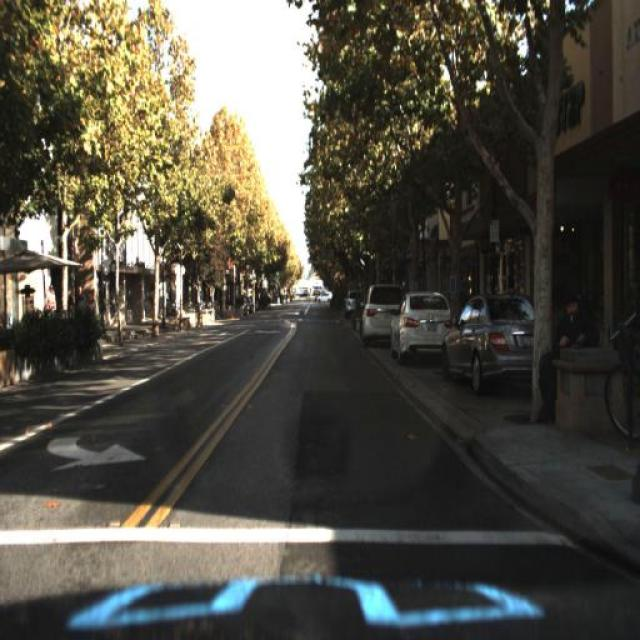car: (436, 287, 535, 393), (388, 289, 458, 351), (354, 281, 397, 350)
trafficLight: (75, 285, 87, 333), (46, 285, 56, 323)
